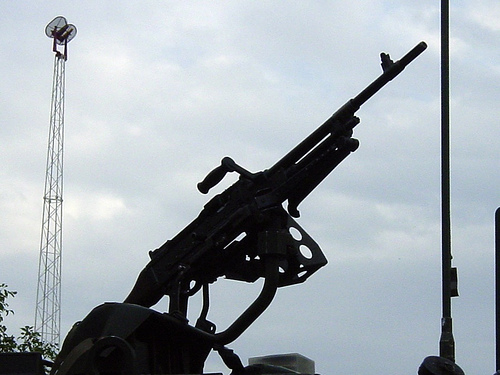rifle: (79, 39, 441, 361)
